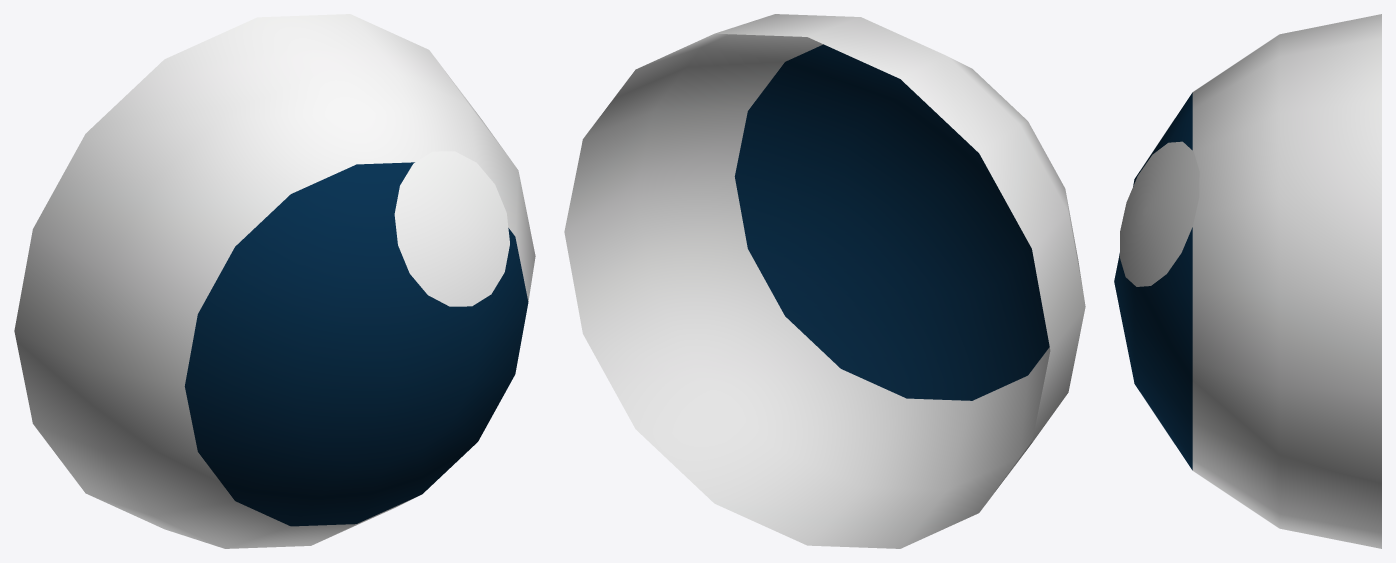
Rendered from Capsule_Eyes_One_Eyed_01.fbx.
3 views of the same model, side by side, from view 1: azimuth 30°, elevation 25°; view 2: azimuth 150°, elevation 25°; view 3: azimuth 270°, elevation 25° (orthographic). The views are drawn at different scales.
Visible parts, largest first — view 1: Capsule_Eyes_One_Eyed_01; view 2: Capsule_Eyes_One_Eyed_01; view 3: Capsule_Eyes_One_Eyed_01.
Boxes of the visible parts, bbox=[...] form: Capsule_Eyes_One_Eyed_01: bbox=[14, 14, 535, 548]; Capsule_Eyes_One_Eyed_01: bbox=[564, 14, 1085, 548]; Capsule_Eyes_One_Eyed_01: bbox=[1114, 14, 1381, 548].
Size of the model in its own units: 58.54 by 58.54 by 29.27.
